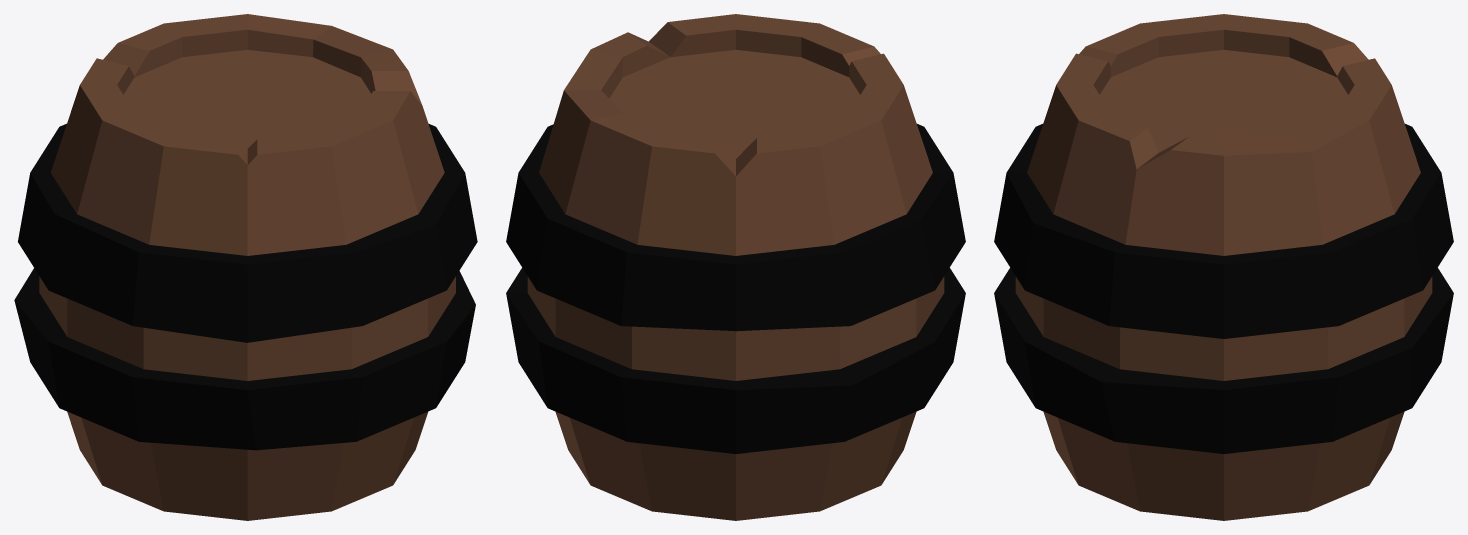
Rendered from hordo.fbx.
3 renders of one model, left to right at view 1: azimuth 30°, elevation 25°; view 2: azimuth 150°, elevation 25°; view 3: azimuth 270°, elevation 25°, orthographic.
Visible parts, largest first — view 1: Cylinder, felső karima, alső karima; view 2: Cylinder, felső karima, alső karima; view 3: Cylinder, felső karima, alső karima.
Boxes of the visible parts, <box> form: Cylinder: <box>39,14,455,520</box>; felső karima: <box>18,123,477,342</box>; alső karima: <box>14,268,475,450</box>; Cylinder: <box>527,14,944,520</box>; felső karima: <box>506,124,965,331</box>; alső karima: <box>506,268,965,453</box>; Cylinder: <box>1015,14,1432,520</box>; felső karima: <box>994,124,1453,338</box>; alső karima: <box>994,268,1453,453</box>.
Bounding box in the file's own units: 137 × 120 × 137.
